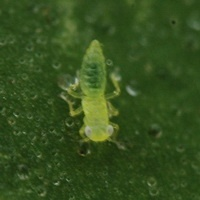insect: (60, 40, 125, 155)
